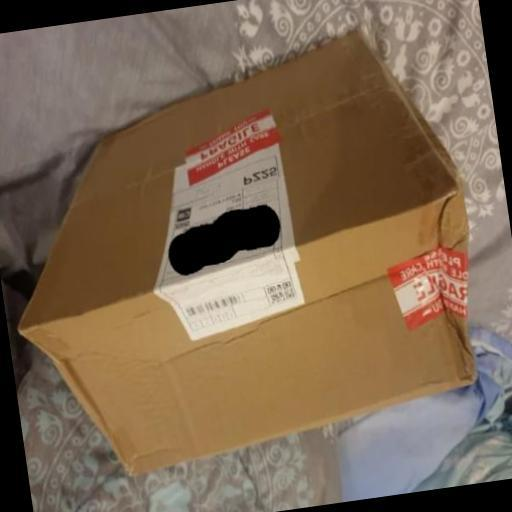crushed: (6, 157, 512, 499)
